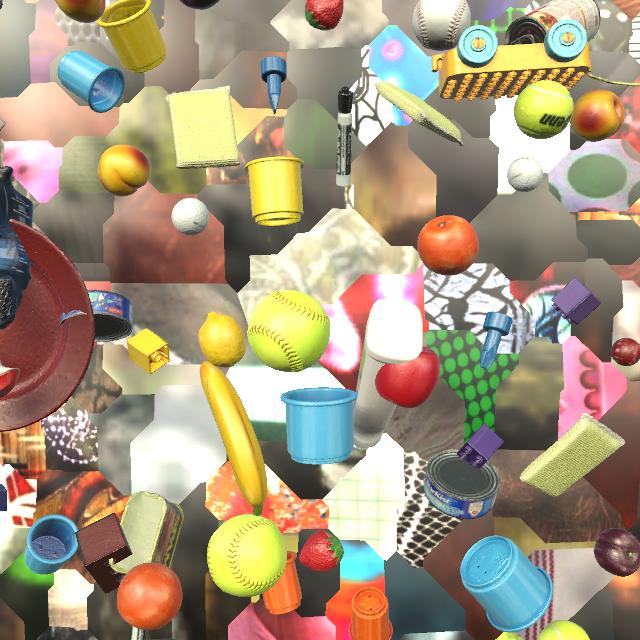ycb_002_master_chef_can: (0, 0, 3, 10)
ycb_005_tomato_soup_can: (505, 0, 601, 45)
ycb_007_tuna_fish_can: (424, 449, 500, 519), (59, 290, 133, 342)
ycb_008_pudding_box: (0, 118, 6, 131)
ycb_010_potted_meat_can: (109, 491, 184, 575)
ycb_011_banana: (200, 361, 268, 516)
ycb_012_strawberry: (299, 530, 344, 571), (305, 0, 344, 31)
ycb_013_apple: (375, 346, 441, 408)
ycb_014_lemon: (198, 312, 246, 368)
ycb_015_peach: (570, 89, 625, 142), (98, 144, 150, 196), (55, 0, 106, 23)
ycb_017_orange: (117, 562, 182, 630), (417, 215, 479, 276)
ycb_018_plum: (594, 528, 640, 577), (180, 0, 219, 10)
